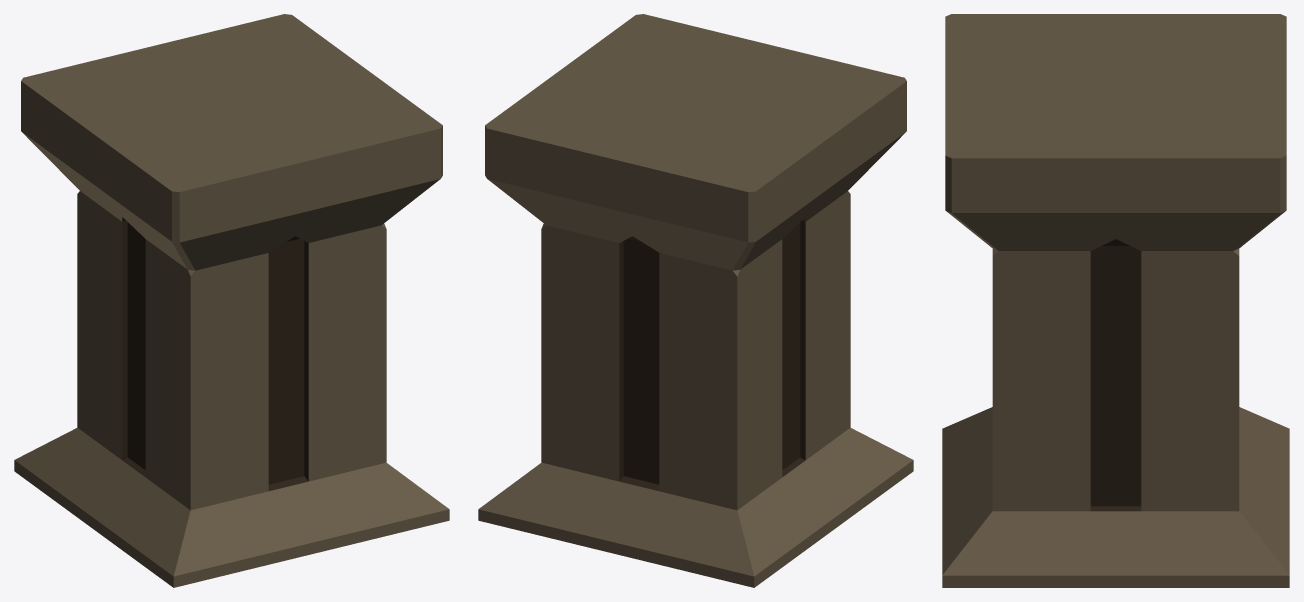
The model's file is slope.obj.
The picture shows the model from 3 angles, left to right: view 1: azimuth 30°, elevation 25°; view 2: azimuth 150°, elevation 25°; view 3: azimuth 270°, elevation 25°; orthographic projection. The views are drawn at different scales.
Visible parts, largest first — view 1: Plane; view 2: Plane; view 3: Plane.
Boxes of the visible parts, <box> form: Plane: <box>14,14,449,587</box>; Plane: <box>478,14,913,587</box>; Plane: <box>942,14,1289,587</box>.
Size of the model in its own units: 2 by 2.72 by 2.
